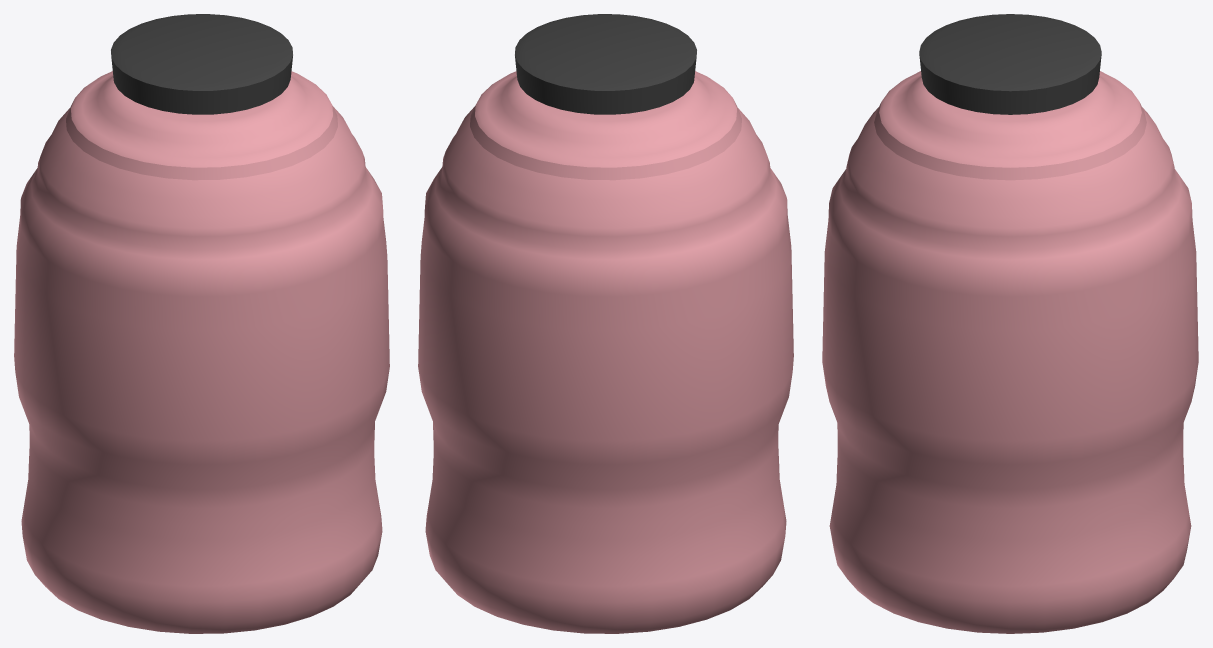
Rendered from bottle8.glb.
3 views of the same model, side by side, from view 1: azimuth 30°, elevation 25°; view 2: azimuth 150°, elevation 25°; view 3: azimuth 270°, elevation 25° (orthographic).
Parts seen in each view (by area): view 1: Bottle8; view 2: Bottle8; view 3: Bottle8.
Boxes of the visible parts, bbox=[...] form: Bottle8: bbox=[14, 14, 389, 633]; Bottle8: bbox=[418, 14, 793, 633]; Bottle8: bbox=[822, 14, 1198, 633].
Bounding box in the file's own units: 0.3653 × 0.5522 × 0.3653.
